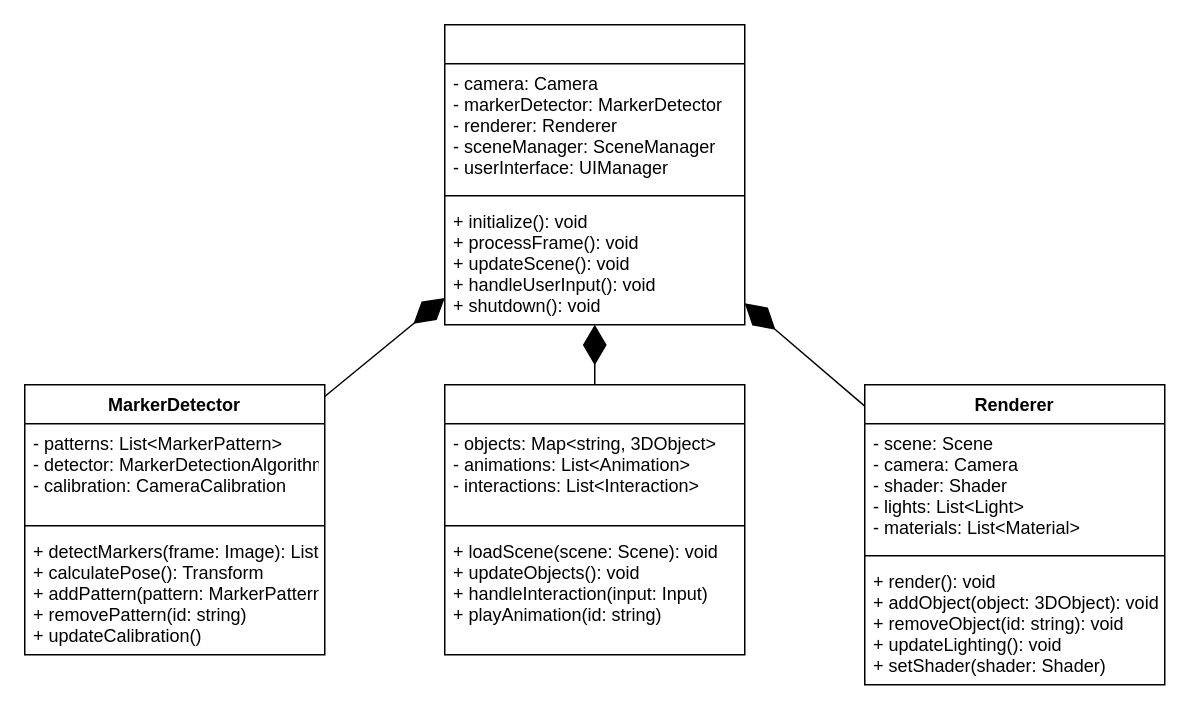
Some shapes in this 1190 by 710 pixel diagram are drawn without their labels. Here are the shapes that lost their labels. From the top down, the box of each, then its label:
(443, 23, 745, 325): ARSystem
(443, 383, 745, 655): SceneManager
